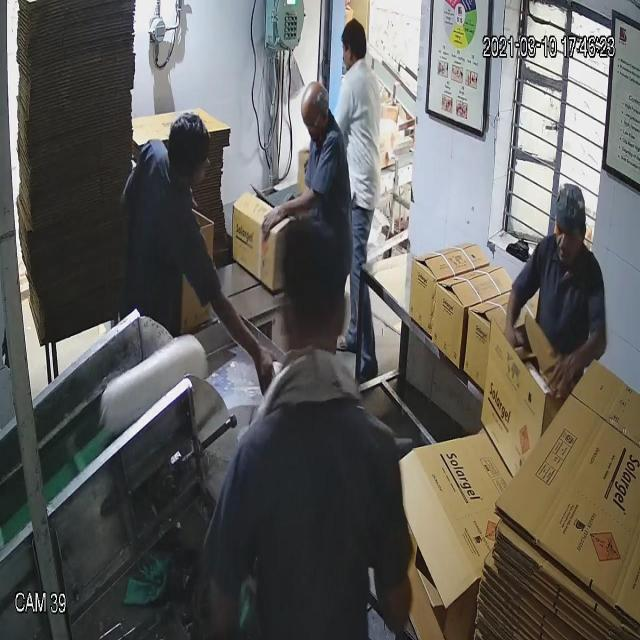No_Gloves: (19, 71, 579, 362)
